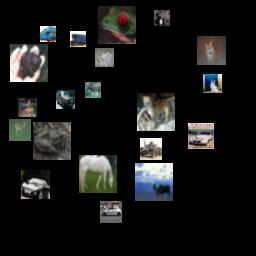airplane: (140, 138, 162, 160)
automobile: (21, 170, 50, 199), (188, 123, 214, 149), (100, 201, 122, 223), (56, 90, 75, 109)
bird: (18, 98, 37, 117)
cat: (197, 36, 226, 65), (95, 48, 114, 67), (203, 74, 222, 93)
deer: (135, 163, 173, 201), (9, 119, 31, 141), (85, 82, 101, 98)
dog: (137, 93, 175, 131)
frog: (10, 44, 48, 82), (98, 6, 136, 44), (33, 122, 71, 160), (154, 10, 170, 26)
truck: (40, 26, 56, 42), (70, 31, 86, 47)
